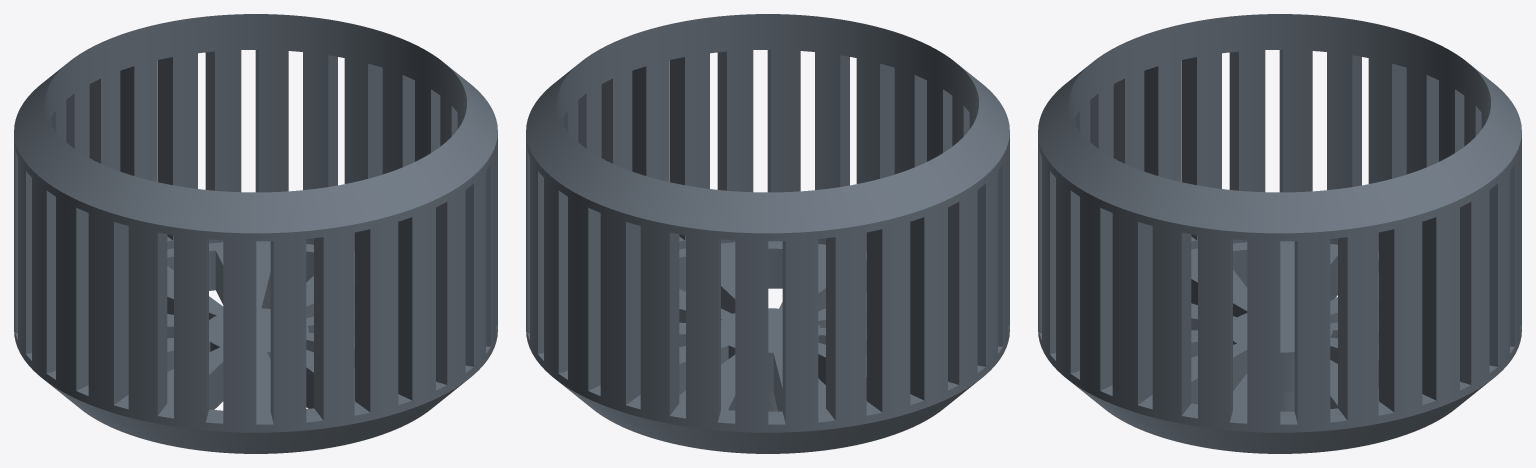
File: ROVER_V1 - weel_right.gltf
The picture shows the model from 3 angles, left to right: view 1: azimuth 30°, elevation 25°; view 2: azimuth 150°, elevation 25°; view 3: azimuth 270°, elevation 25°; orthographic projection.
Parts seen in each view (by area): view 1: weel_right; view 2: weel_right; view 3: weel_right.
Part boxes in pixels (left/top/right/bottom): weel_right: left=14, top=14, right=497, bottom=453; weel_right: left=526, top=14, right=1009, bottom=453; weel_right: left=1038, top=14, right=1521, bottom=453.
Bounding box in the file's own units: 0.55 × 0.415 × 0.55.
